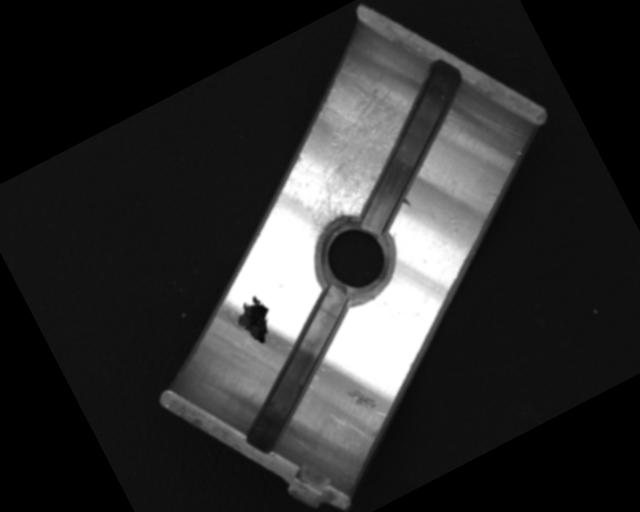blot: (228, 292, 283, 352)
bruise: (341, 379, 379, 418), (399, 195, 413, 211)
gap: (311, 56, 507, 239), (203, 286, 389, 456)
hole: (302, 207, 406, 310)
scratch: (257, 63, 444, 244)
